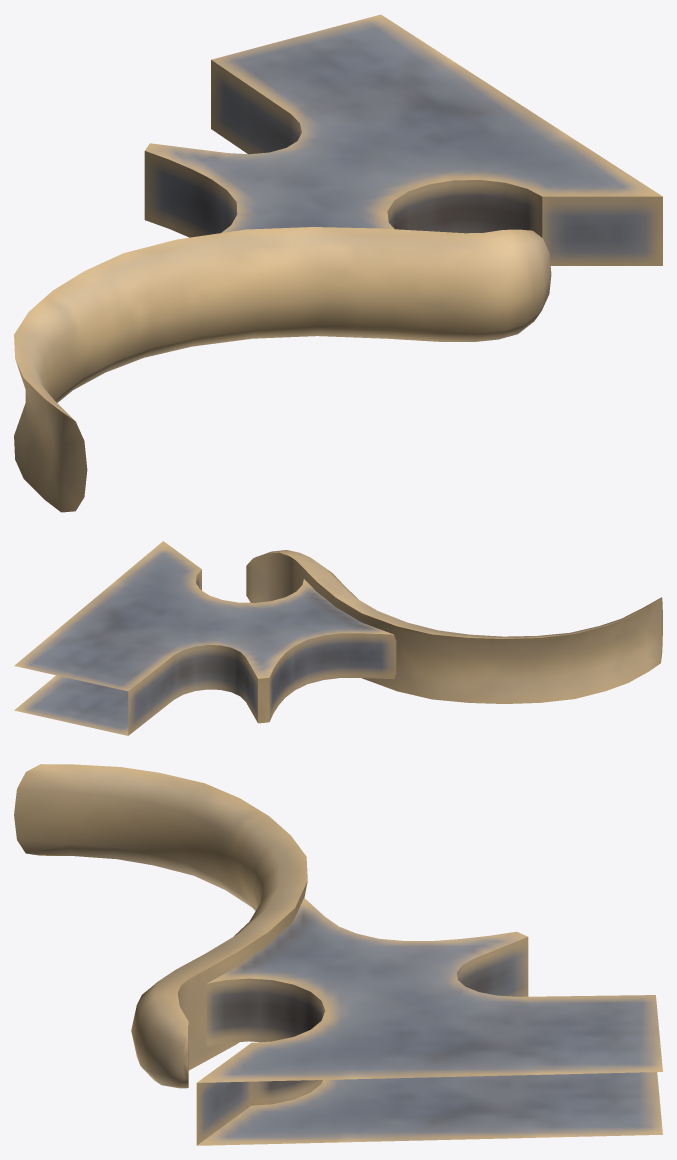
File: SM_Chevallier_01e.fbx
The picture shows the model from 3 angles, top to bottom: view 1: azimuth 30°, elevation 25°; view 2: azimuth 150°, elevation 25°; view 3: azimuth 270°, elevation 25°; orthographic projection. The views are drawn at different scales.
Visible parts, largest first — view 1: SM_Chevallier_01e_LOD0; view 2: SM_Chevallier_01e_LOD0; view 3: SM_Chevallier_01e_LOD0.
Part boxes in pixels (box(x1,y1,x2,y2)): SM_Chevallier_01e_LOD0: box(14, 14, 662, 512); SM_Chevallier_01e_LOD0: box(14, 541, 662, 735); SM_Chevallier_01e_LOD0: box(14, 764, 662, 1145).
Bounding box in the file's own units: 3.78 × 3.41 × 0.5312.
